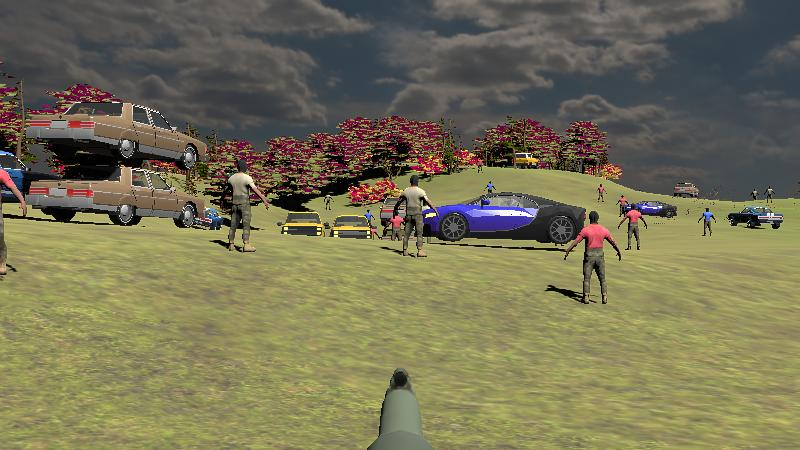Human: (563, 210, 621, 304), (393, 173, 438, 258), (0, 148, 26, 278), (618, 203, 648, 251), (388, 208, 408, 251), (697, 207, 716, 238)
car: (26, 98, 211, 168), (27, 168, 207, 228), (421, 191, 589, 246), (727, 205, 784, 229), (282, 211, 324, 238), (331, 215, 371, 241), (630, 200, 678, 219), (513, 151, 541, 170)
